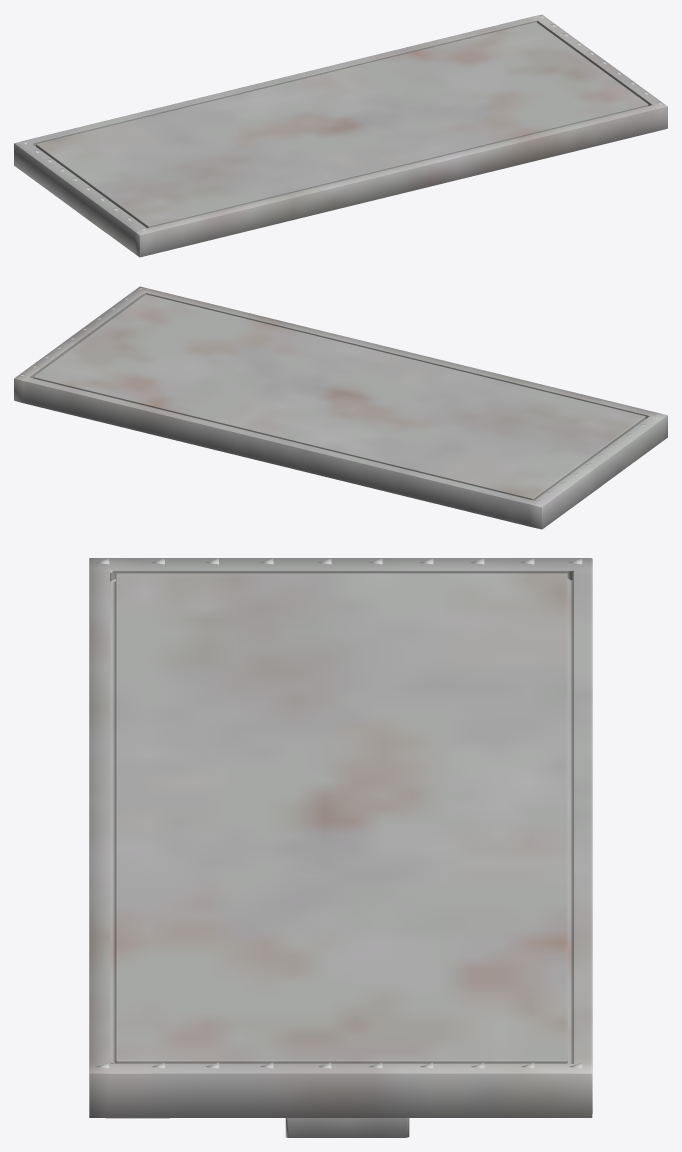
Rendered from Beam_Metal_C.glb.
3 views of the same model, one above another, from view 1: azimuth 30°, elevation 25°; view 2: azimuth 150°, elevation 25°; view 3: azimuth 270°, elevation 25° (orthographic). The views are drawn at different scales.
Parts seen in each view (by area): view 1: SM_Beam; view 2: SM_Beam; view 3: SM_Beam.
Boxes of the visible parts, x1=… form: SM_Beam: x1=14, y1=14, x2=667, y2=257; SM_Beam: x1=14, y1=286, x2=667, y2=529; SM_Beam: x1=89, y1=558, x2=592, y2=1137.
Bounding box in the file's own units: 2.95 × 0.2182 × 1.22.
Materials: 1 (1 with a texture image).
